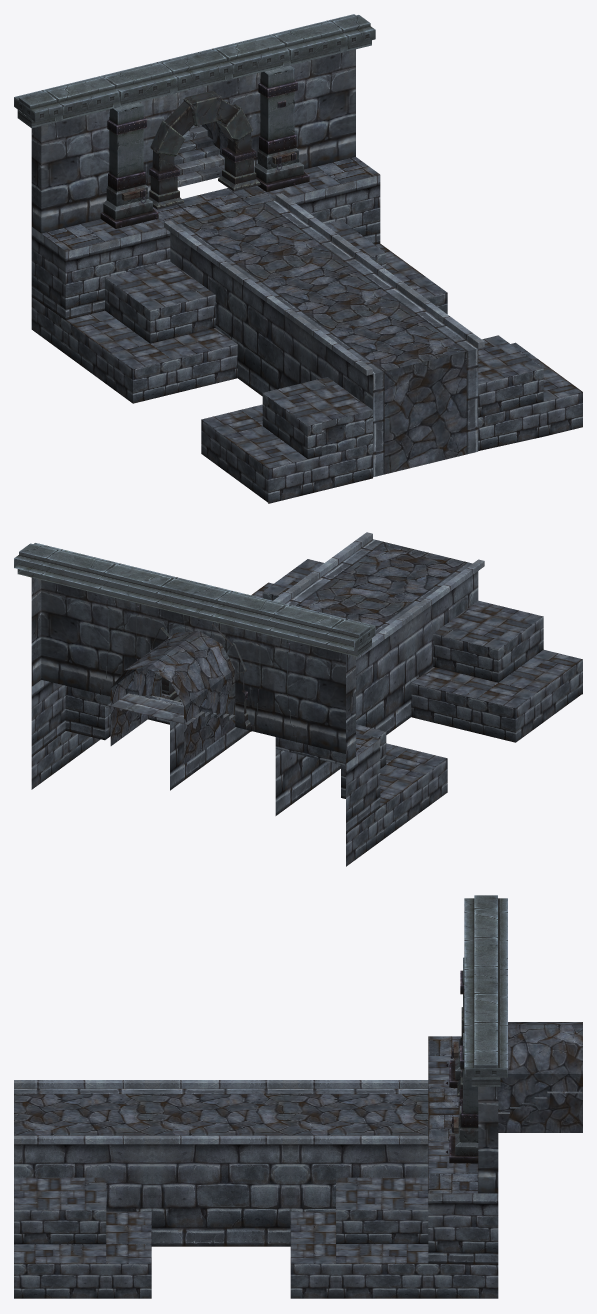
Rendered from B_startbridge001.fbx.
The picture shows the model from 3 angles, top to bottom: view 1: azimuth 30°, elevation 25°; view 2: azimuth 150°, elevation 25°; view 3: azimuth 270°, elevation 25°; orthographic projection. The views are drawn at different scales.
Visible parts, largest first — view 1: polySurface1; view 2: polySurface1; view 3: polySurface1.
Part boxes in pixels (box(x1,y1,x2,y2)): polySurface1: box(14, 14, 582, 503); polySurface1: box(14, 532, 582, 866); polySurface1: box(14, 895, 582, 1298).
Size of the model in its own units: 968 by 642 by 1372.
